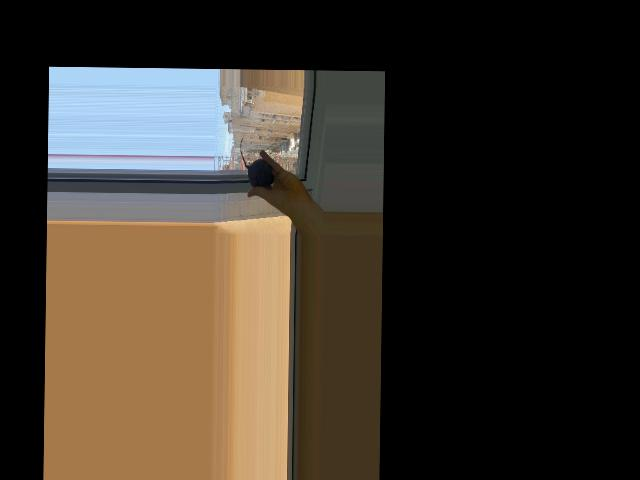beet: (239, 136, 274, 187)
